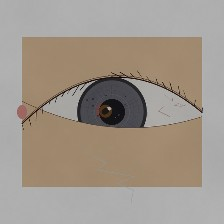foreign_body_visible: (85, 95, 126, 127)
